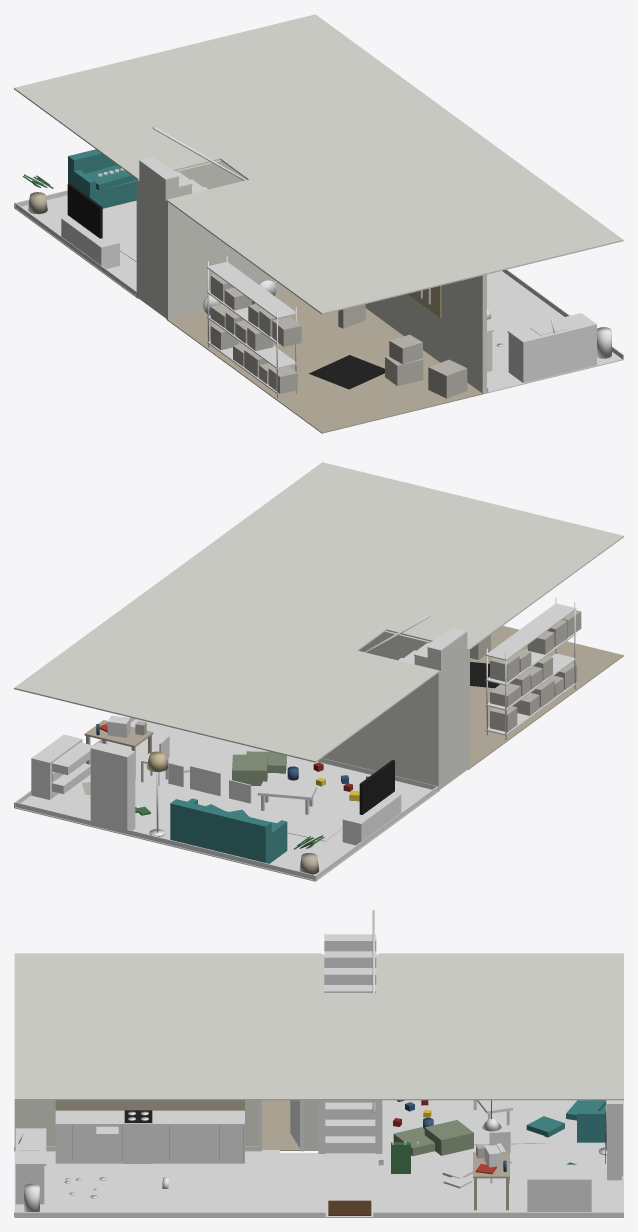
Rendered from hood_home.glb.
3 views of the same model, one above another, from view 1: azimuth 30°, elevation 25°; view 2: azimuth 150°, elevation 25°; view 3: azimuth 270°, elevation 25° (orthographic).
Parts seen in each view (by area): view 1: ceiling.003, floor_conc, box_food.004, cabinet.008, floor_tile, bin.004, floor_wood.006, cushion.006, oil_stain.004, bookcase.004, counter.008, rug; view 2: ceiling.003, floor_wood.006, bookcase.004, cabinet.008, box_food.004, cushion.006, rug, floor_conc, bin.004, oil_stain.004, chair_back.008, table_leg.018; view 3: ceiling.003, floor_wood.006, cabinet.008, floor_tile, counter.008, rug, bookcase.004, backsplash, chair_back.008, cushion.006, floor_conc, stove (+6 smaller).
Part boxes in pixels (left/top/right/bottom): ceiling.003: left=14, top=14, right=623, bottom=393; floor_conc: left=166, top=290, right=484, bottom=433; box_food.004: left=210, top=274, right=467, bottom=398; cabinet.008: left=14, top=178, right=623, bottom=392; floor_tile: left=484, top=271, right=623, bottom=393; bin.004: left=207, top=256, right=611, bottom=398; floor_wood.006: left=14, top=157, right=208, bottom=298; cushion.006: left=68, top=149, right=136, bottom=208; oil_stain.004: left=67, top=183, right=384, bottom=389; bookcase.004: left=61, top=126, right=246, bottom=268; counter.008: left=487, top=313, right=596, bottom=343; rug: left=102, top=217, right=136, bottom=261; ceiling.003: left=14, top=462, right=623, bottom=790; floor_wood.006: left=14, top=628, right=467, bottom=881; bookcase.004: left=90, top=615, right=429, bottom=845; cabinet.008: left=14, top=649, right=438, bottom=880; box_food.004: left=82, top=610, right=581, bottom=798; cushion.006: left=170, top=798, right=287, bottom=863; rug: left=216, top=773, right=359, bottom=841; floor_conc: left=468, top=626, right=623, bottom=769; bin.004: left=485, top=598, right=576, bottom=739; oil_stain.004: left=359, top=662, right=499, bottom=814; chair_back.008: left=232, top=751, right=286, bottom=785; table_leg.018: left=84, top=720, right=153, bottom=778; ceiling.003: left=14, top=953, right=623, bottom=1150; floor_wood.006: left=279, top=934, right=623, bottom=1217; cabinet.008: left=14, top=942, right=623, bottom=1217; floor_tile: left=14, top=1150, right=279, bottom=1217; counter.008: left=15, top=1110, right=244, bottom=1165; rug: left=422, top=1100, right=544, bottom=1144; bookcase.004: left=372, top=910, right=622, bottom=1188; backsplash: left=55, top=1100, right=244, bottom=1110; chair_back.008: left=393, top=1120, right=473, bottom=1156; cushion.006: left=526, top=1100, right=605, bottom=1142; floor_conc: left=262, top=1100, right=299, bottom=1150; stove: left=123, top=1110, right=153, bottom=1163.
Size of the model in its own units: 6.96 by 3.82 by 12.31.
